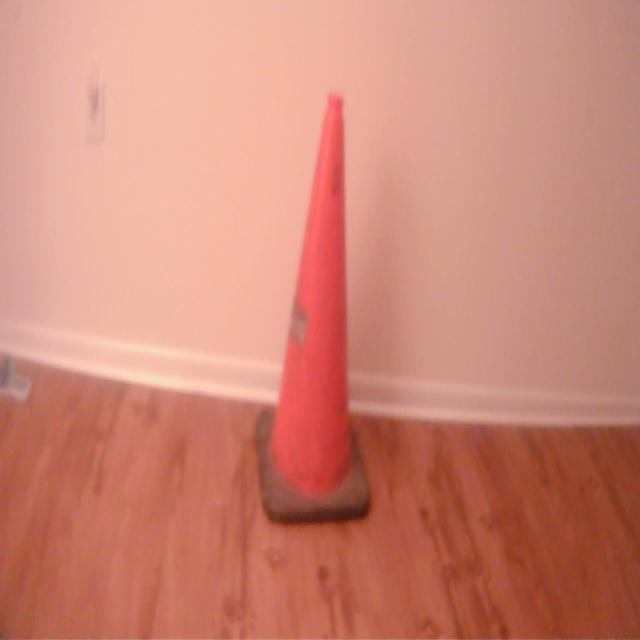traffic cone: (255, 88, 377, 537)
